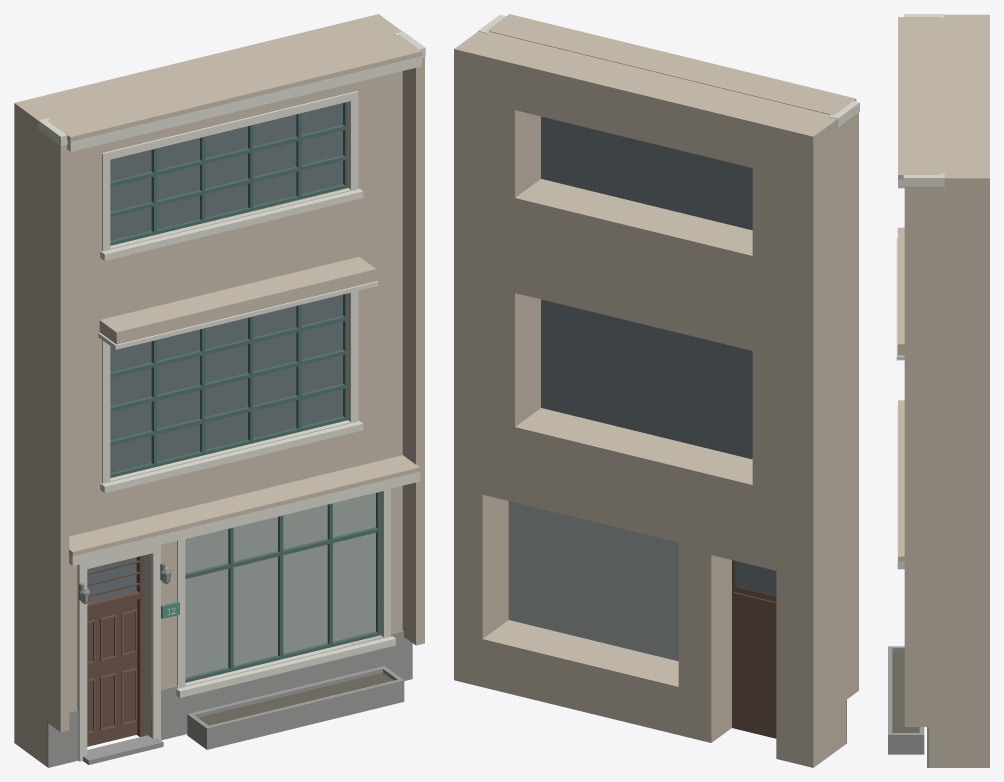
The model's file is jingan-jinghua-village-no12-lod.glb.
The picture shows the model from 3 angles, left to right: view 1: azimuth 30°, elevation 25°; view 2: azimuth 150°, elevation 25°; view 3: azimuth 270°, elevation 25°; orthographic projection. The views are drawn at different scales.
Parts seen in each view (by area): view 1: 景华新邨12号弄内门面; view 2: 景华新邨12号弄内门面; view 3: 景华新邨12号弄内门面.
Boxes of the visible parts, x1=… form: 景华新邨12号弄内门面: x1=14, y1=14, x2=425, y2=767; 景华新邨12号弄内门面: x1=454, y1=14, x2=859, y2=767; 景华新邨12号弄内门面: x1=888, y1=14, x2=989, y2=767.
Size of the model in its own units: 5.79 by 9.71 by 1.52.
